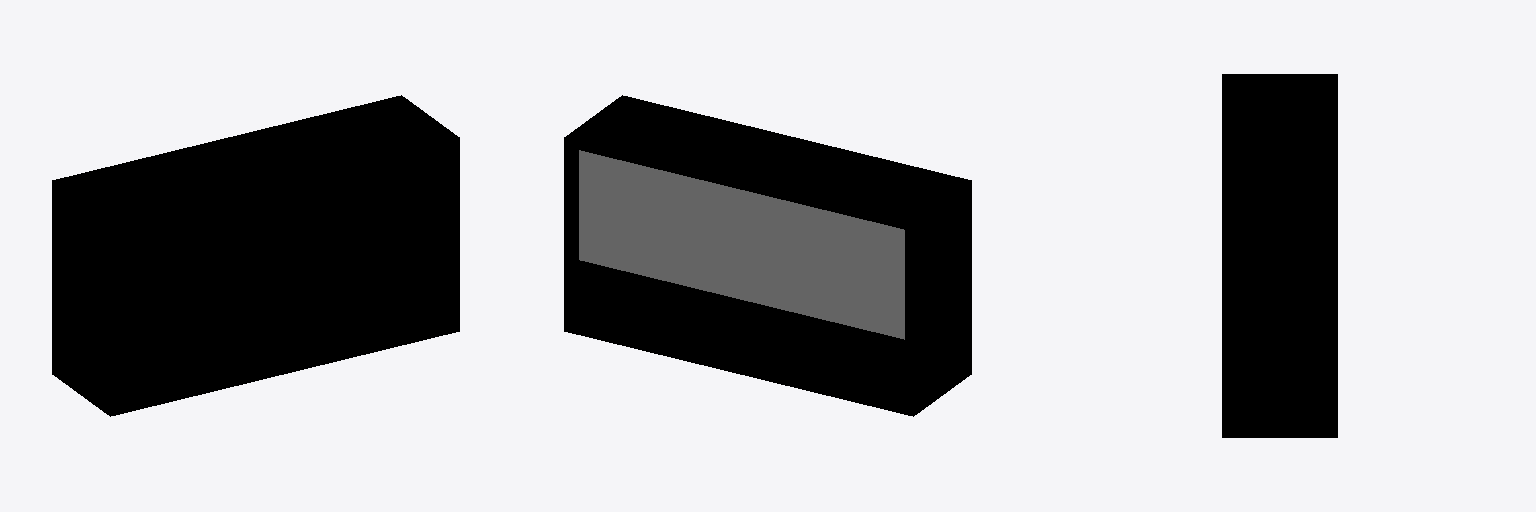
File: SliderBackground.obj
The picture shows the model from 3 angles: view 1: azimuth 30°, elevation 25°; view 2: azimuth 150°, elevation 25°; view 3: azimuth 270°, elevation 25°; orthographic projection.
Parts seen in each view (by area): view 1: SliderBackground; view 2: SliderBackground; view 3: SliderBackground.
Boxes of the visible parts, <box> form: SliderBackground: <box>52,95,459,416</box>; SliderBackground: <box>564,95,971,416</box>; SliderBackground: <box>1222,74,1337,437</box>.
Size of the model in its own units: 0.2494 by 0.1324 by 0.0715.